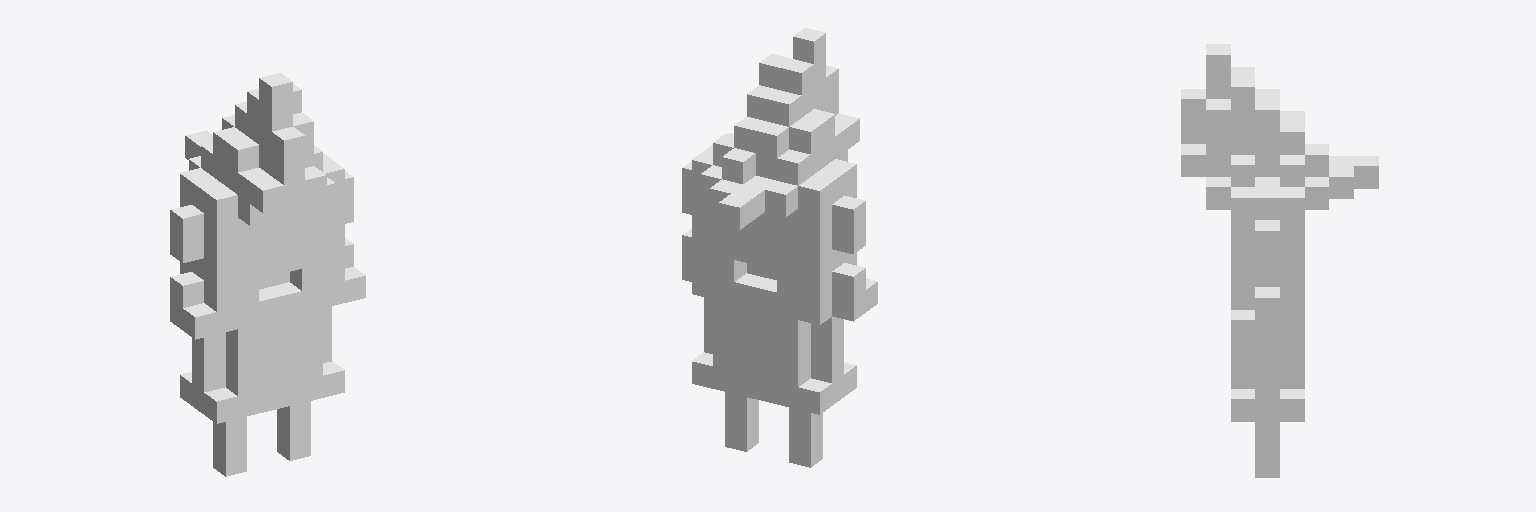
File: mychar.obj
3 renders of one model, left to right at view 1: azimuth 30°, elevation 25°; view 2: azimuth 150°, elevation 25°; view 3: azimuth 270°, elevation 25°, orthographic.
Visible parts, largest first — view 1: object 1; view 2: object 1; view 3: object 1.
Boxes of the visible parts, x1=… form: object 1: x1=170, y1=73, x2=365, y2=476; object 1: x1=682, y1=28, x2=877, y2=467; object 1: x1=1181, y1=44, x2=1378, y2=477.
Bounding box in the file's own units: 0.8 × 1.8 × 0.8.